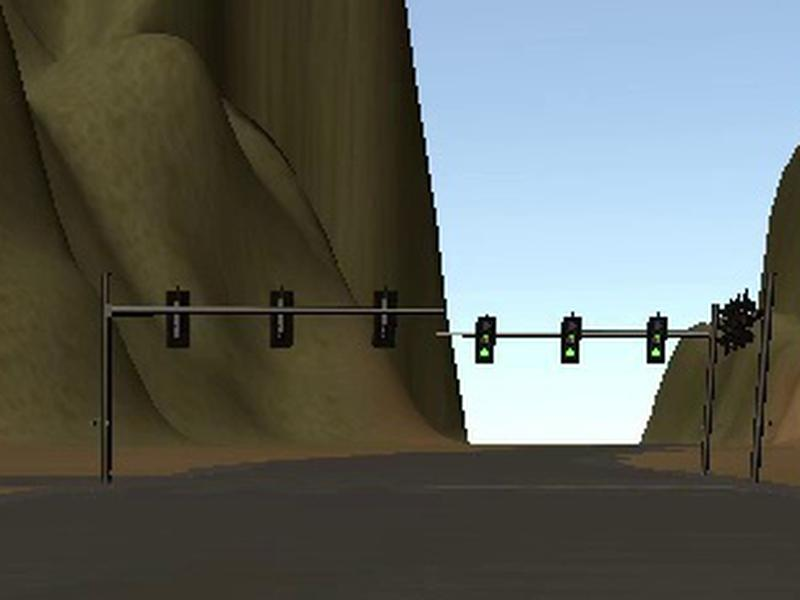Green: (561, 316, 582, 364), (475, 316, 496, 363), (647, 316, 667, 363)
